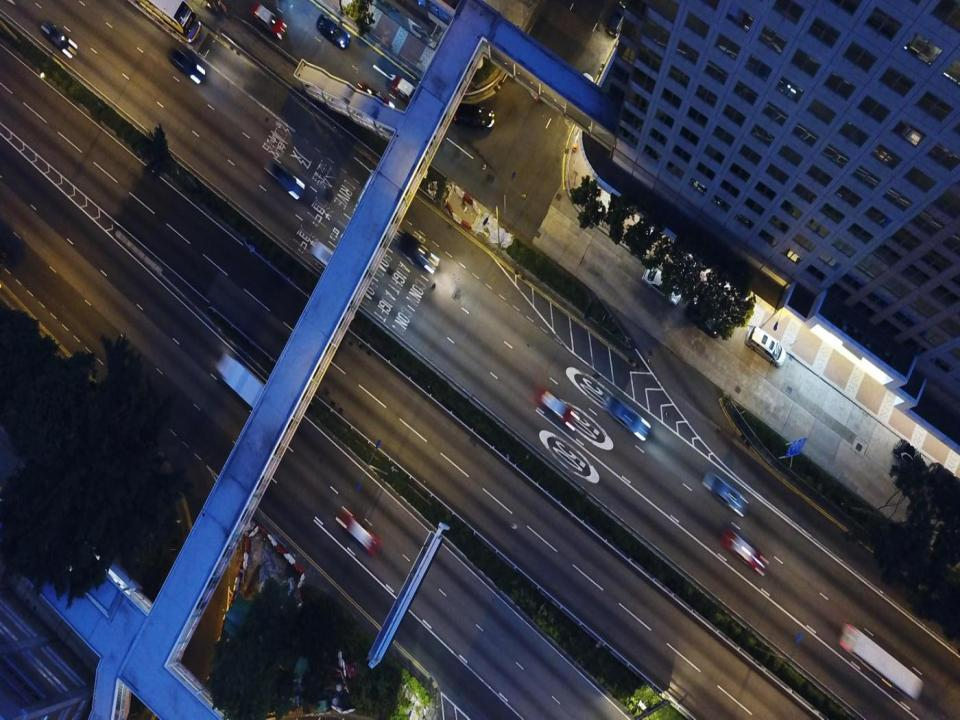bus: (840, 622, 924, 706), (143, 0, 202, 42)
car: (602, 392, 652, 442), (724, 526, 769, 578), (338, 510, 380, 559), (702, 472, 748, 514), (312, 236, 357, 278), (396, 231, 439, 274), (264, 159, 307, 201), (388, 70, 430, 109), (538, 386, 575, 430), (642, 263, 680, 304), (448, 98, 496, 129), (556, 73, 593, 112), (41, 20, 76, 60), (315, 12, 350, 52), (170, 48, 206, 86), (254, 4, 289, 40), (606, 0, 632, 37)
truck: (217, 350, 285, 425)
van: (744, 324, 787, 364)
